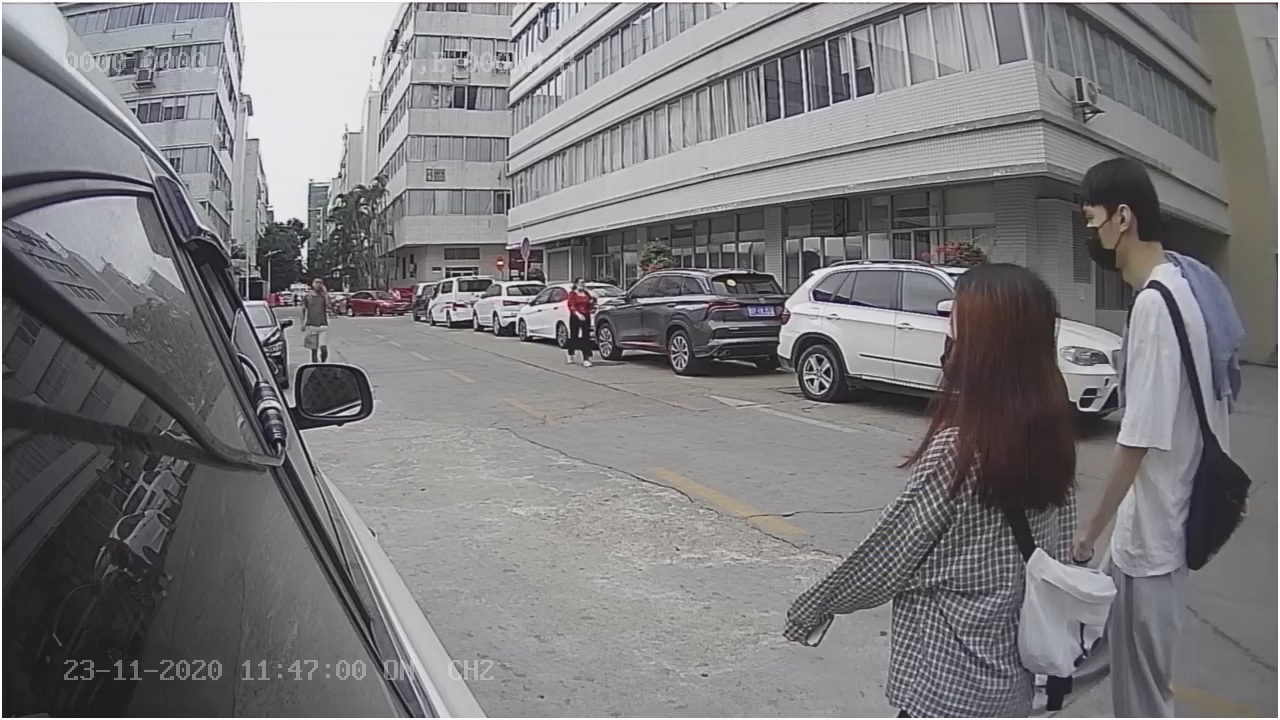person: (875, 259, 1096, 600)
